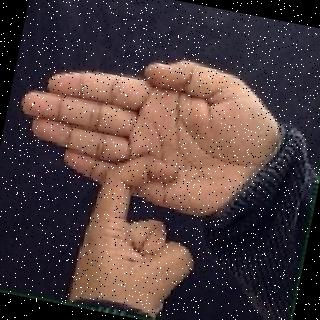R: (0, 26, 292, 320)
